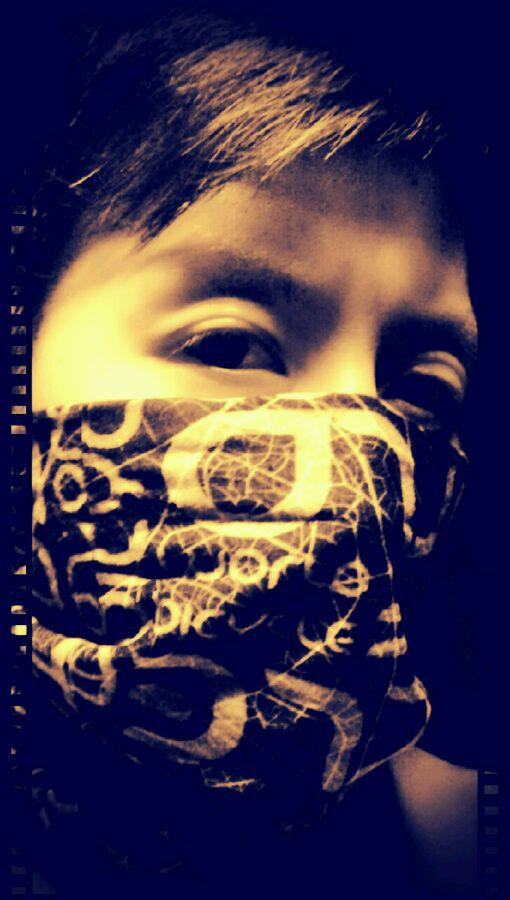OK: (41, 234, 485, 668)
